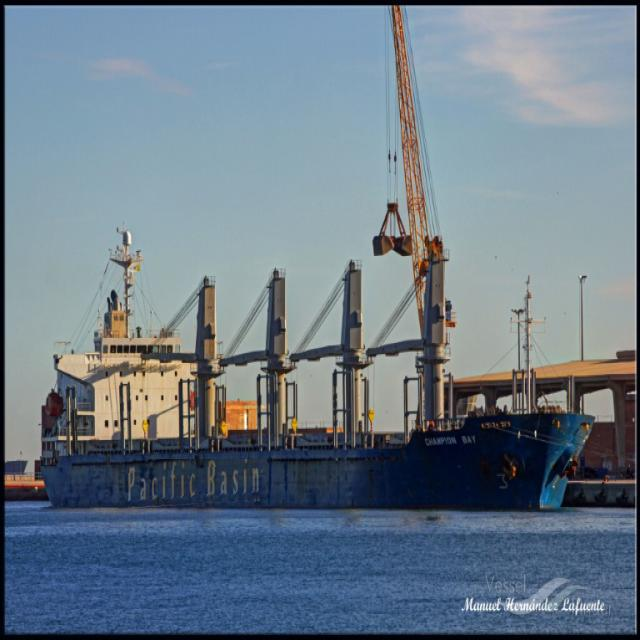OCR: (125, 459, 267, 509)
